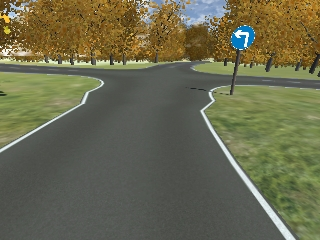left: (227, 23, 256, 51)
